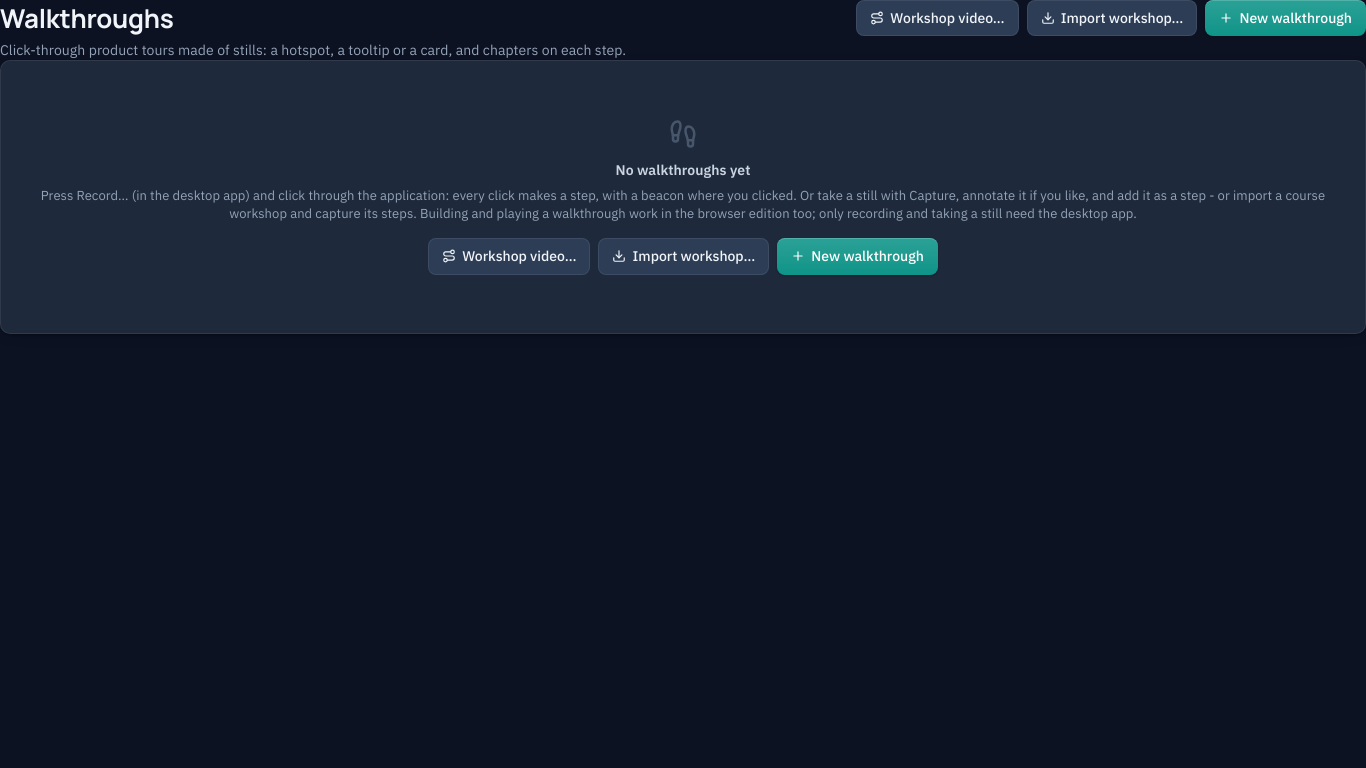
Test case: the list › W2: with no courses folder set, the dialog says where to set it and offers no Import
Note: The empty state offers the import too.
Click the 1st button "Import workshop…" at (1112, 18), box [1027, 0, 1197, 36]
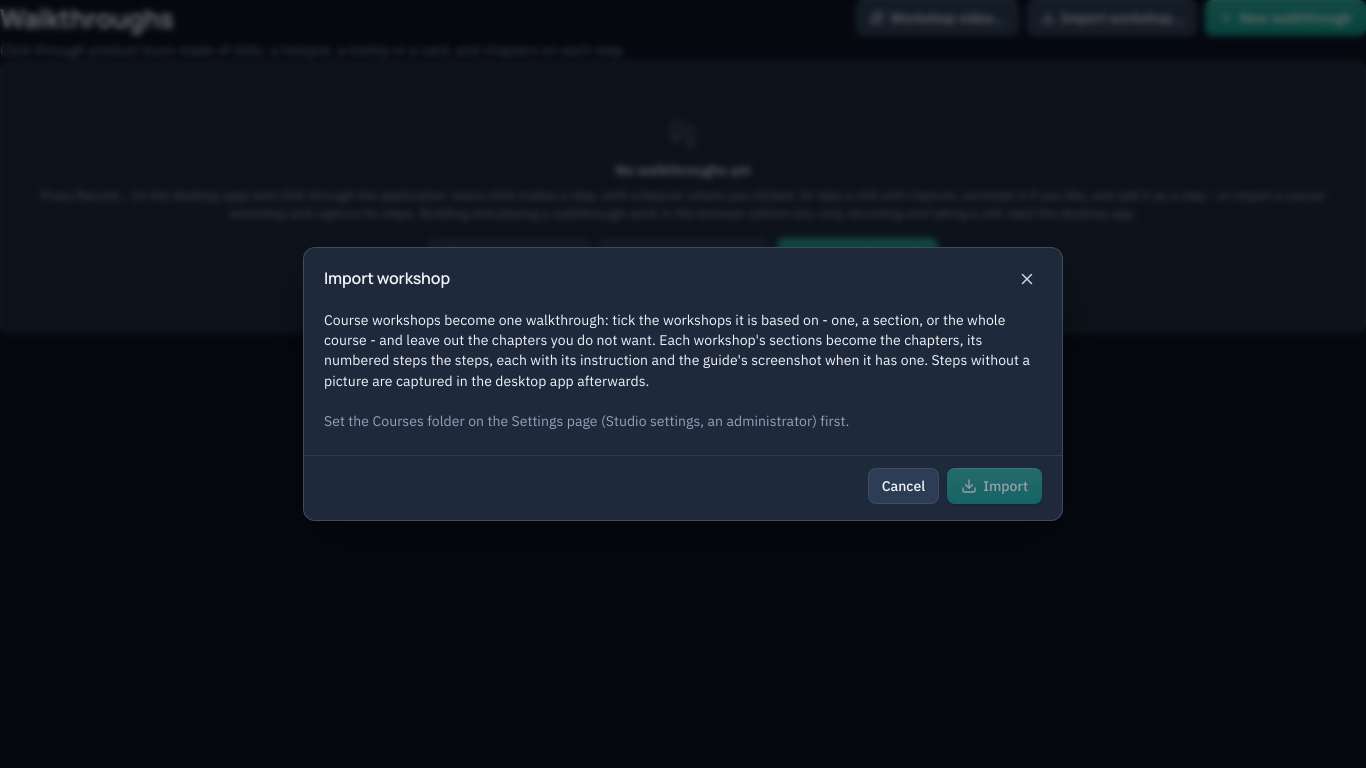
Expected: the text "Set the Courses folder on the Settings page" is shown, [324, 412, 849, 430]
Expected: the button "Import" is disabled, [947, 468, 1042, 504]
